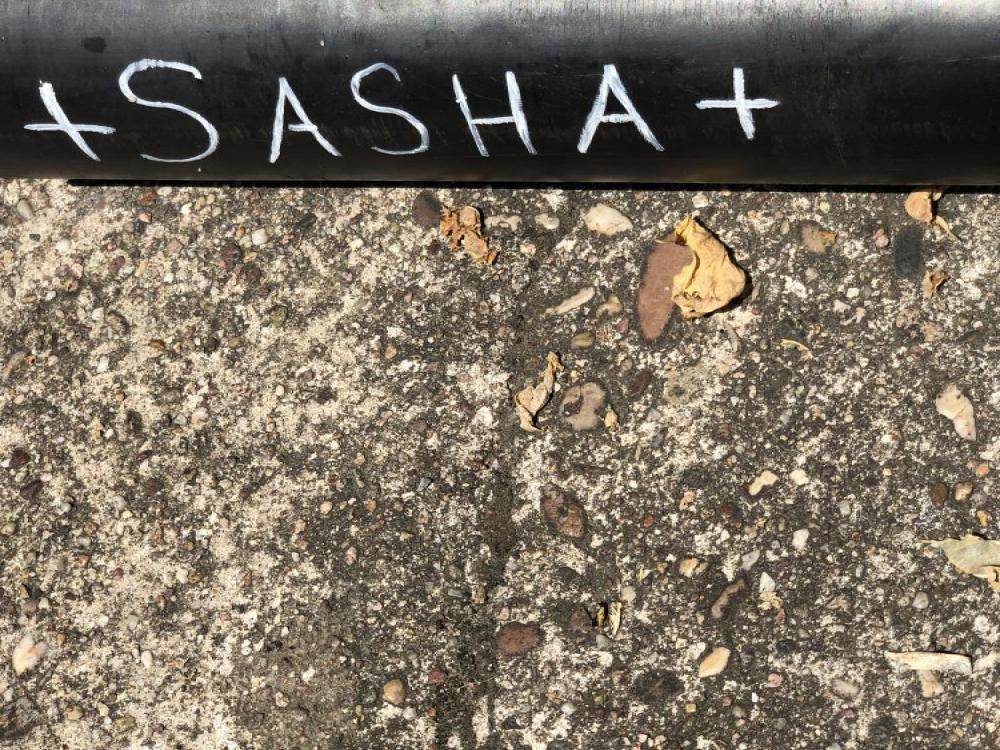+: (785, 16, 892, 84), (815, 520, 910, 584)
A: (792, 432, 916, 498), (784, 201, 899, 254)
H: (789, 339, 908, 403)
S: (783, 88, 925, 165), (794, 262, 917, 322)
